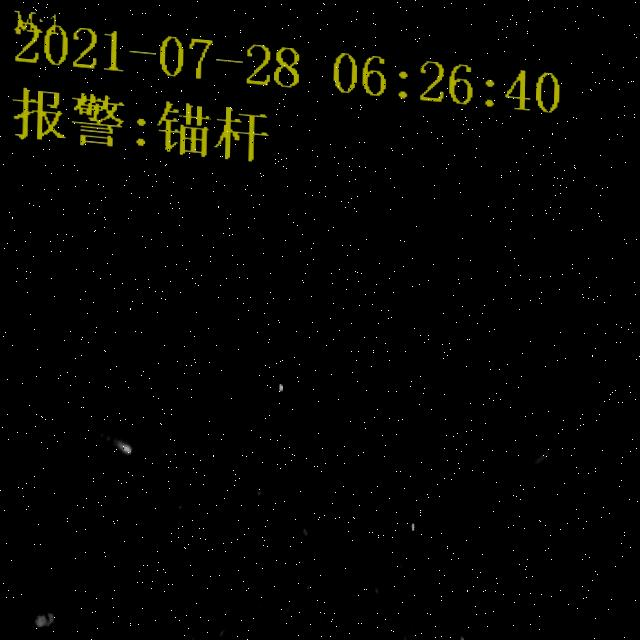bolt: (132, 206, 438, 559)
